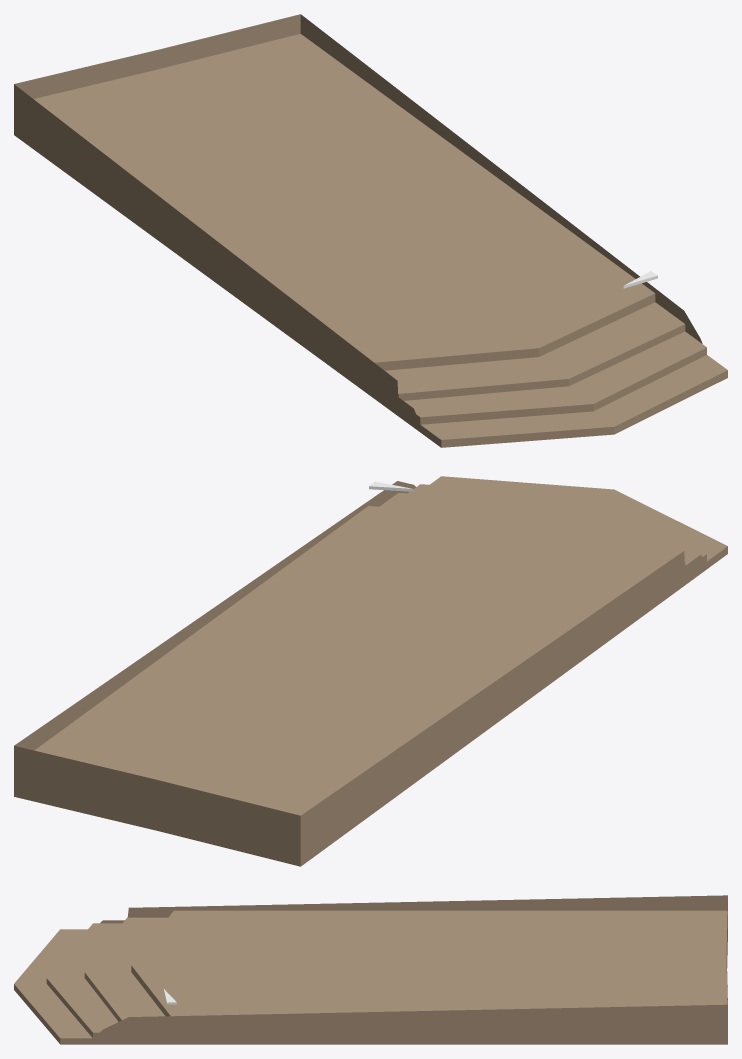
The model's file is stone floor4.FBX.
3 views of the same model, one above another, from view 1: azimuth 30°, elevation 25°; view 2: azimuth 150°, elevation 25°; view 3: azimuth 270°, elevation 25° (orthographic). The views are drawn at different scales.
Visible parts, largest first — view 1: Stone floor; view 2: Stone floor; view 3: Stone floor.
Part boxes in pixels (x1,y1,x2,y2): Stone floor: [14, 14, 727, 447]; Stone floor: [14, 476, 727, 866]; Stone floor: [14, 895, 727, 1044].
Size of the model in its own units: 20.89 by 3.69 by 57.66.
